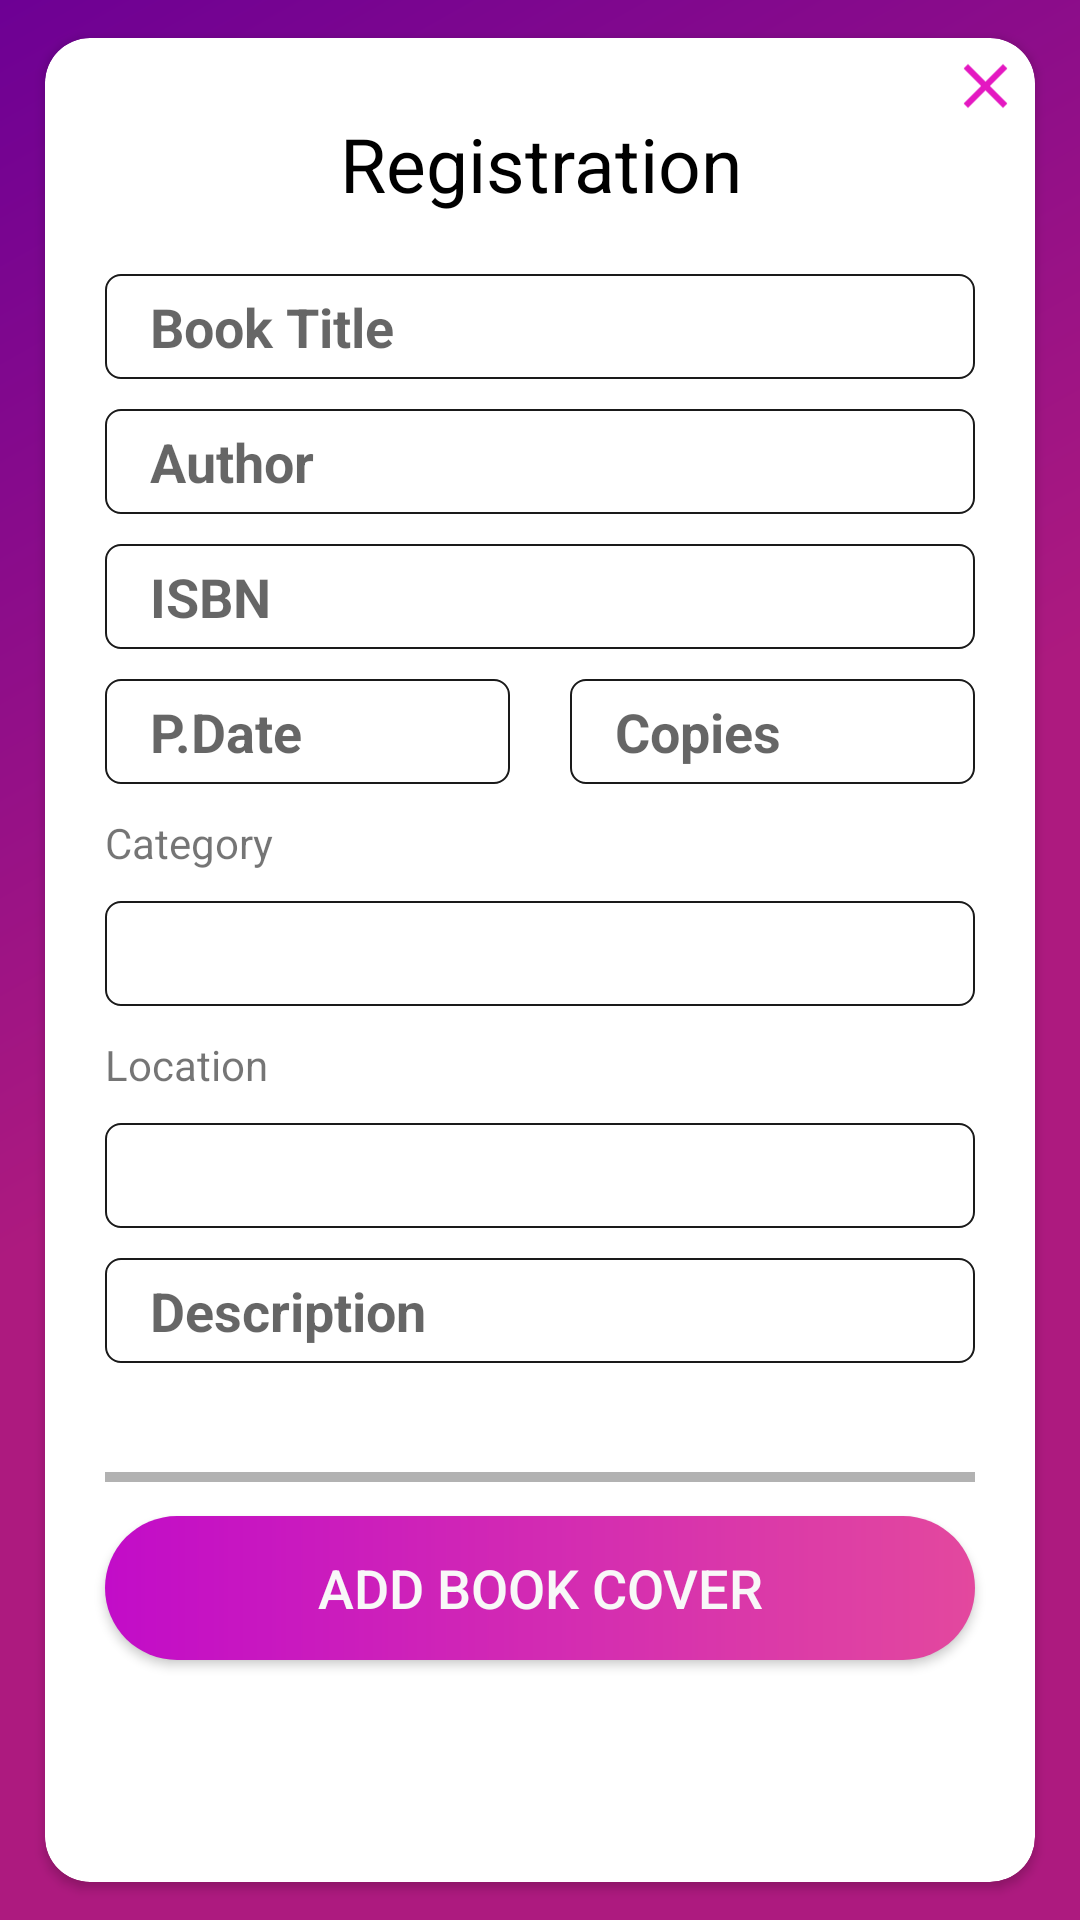

Where to tap for icons on this 1080×1920 app screen, as point (x, y):
close: point (985, 86)
